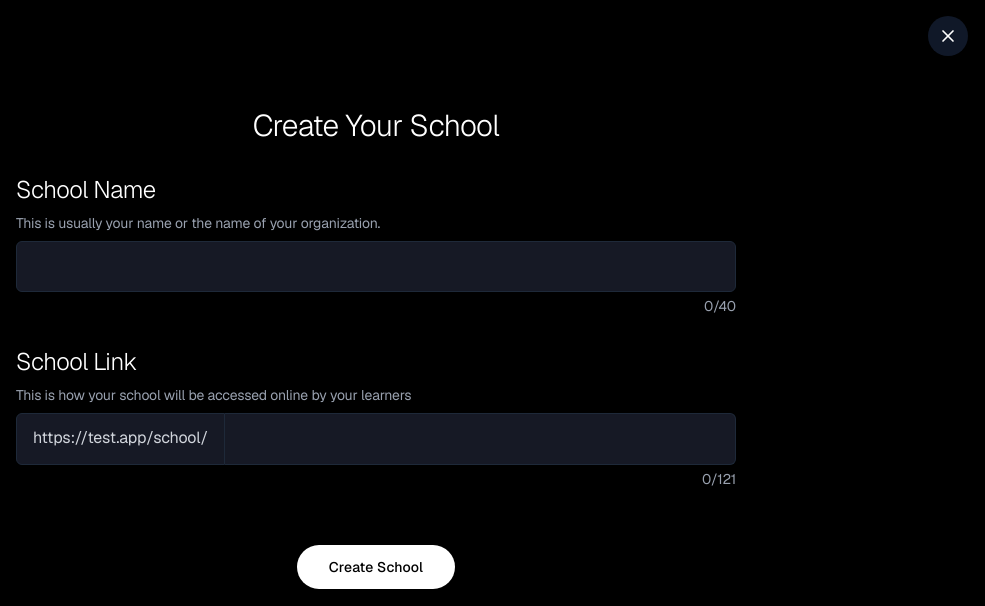
Test: CreateSchool Page › Form Input Handling › should update slug input and format it properly
Type "Test-School-123!" into the field with id "slug". click: x=480, y=439
box: [225,413,736,465]
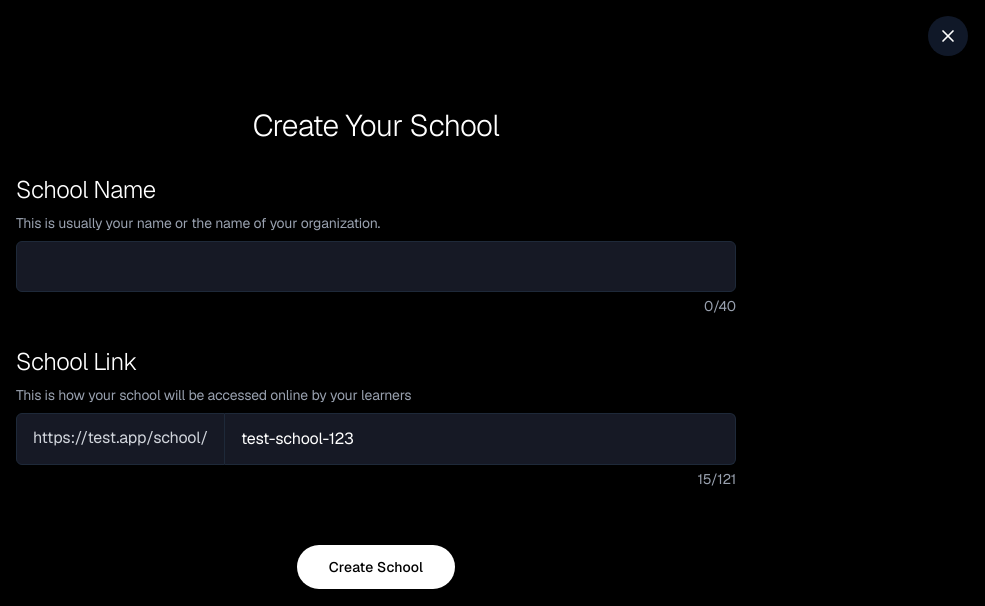
Now the field with id "slug" holds "test-school-123", box [225,413,736,465]
Now the text "15/121" is shown, box [698,470,736,488]
